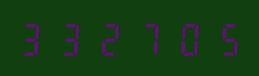five: (203, 20, 239, 56)
seven: (129, 20, 165, 56)
three: (17, 20, 53, 56), (54, 20, 90, 56)
two: (92, 20, 128, 56)
zero: (166, 20, 202, 56)
